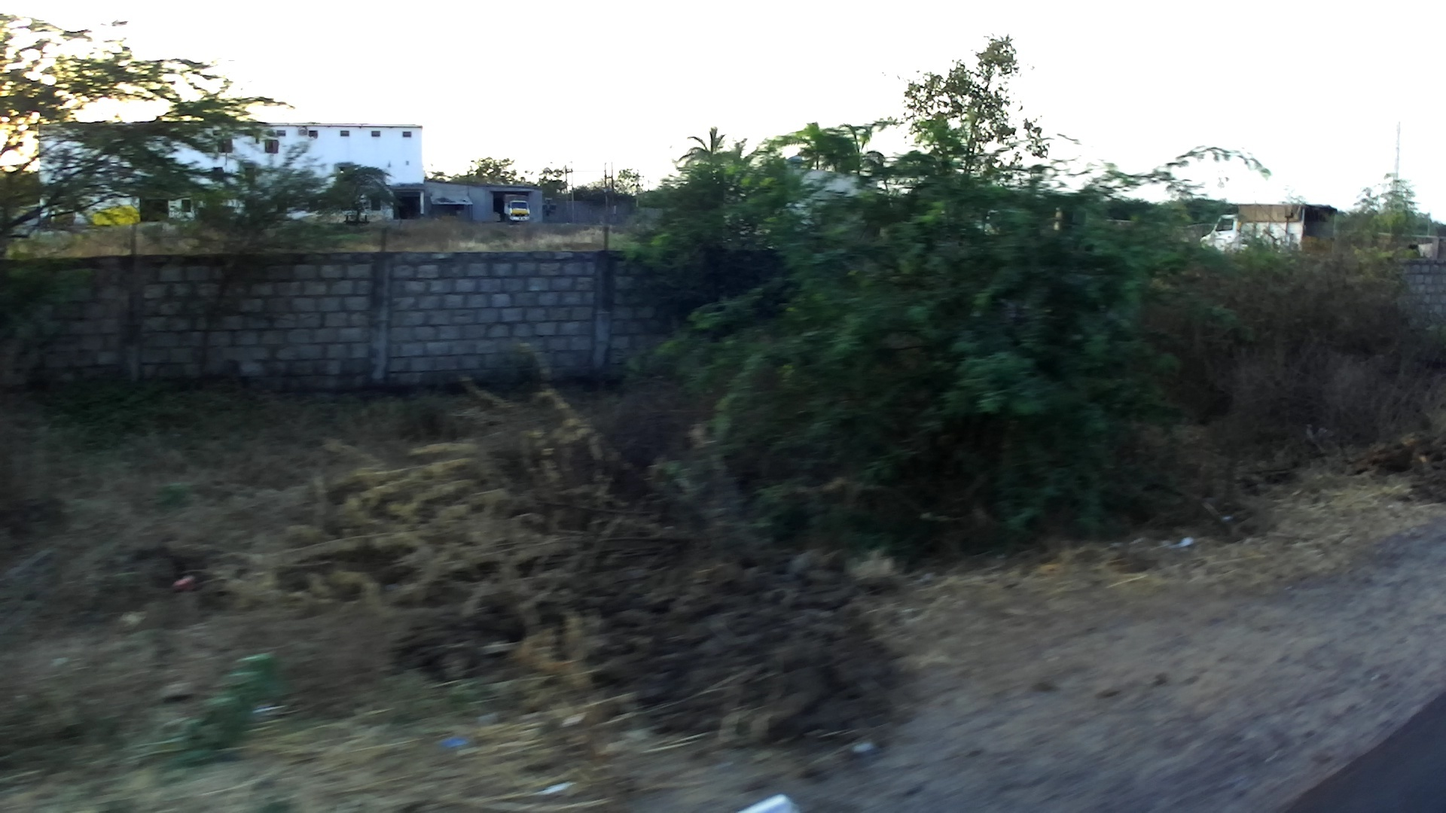truck: (1197, 202, 1338, 258), (503, 193, 532, 226)
